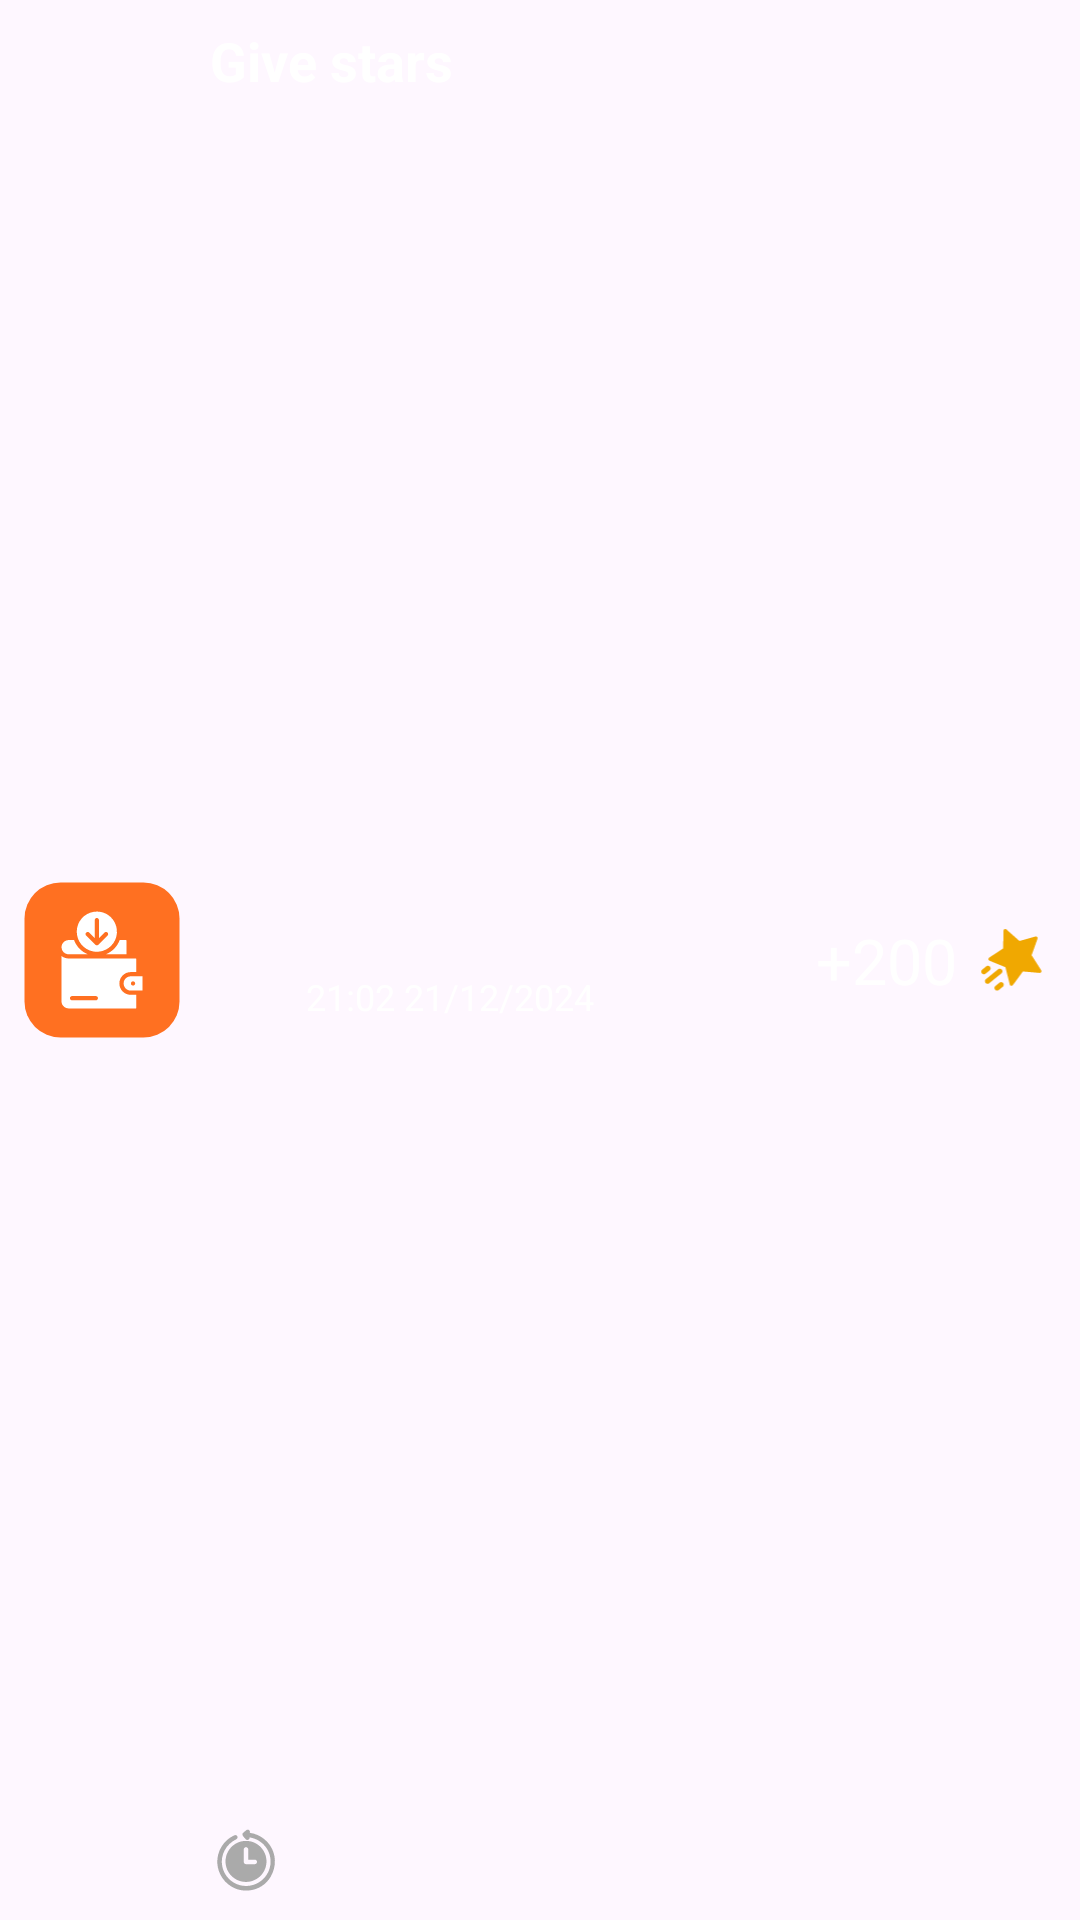

Icons on this 1080 x 1920 Android screen, each with the point to tap as (x=x, y=y):
time clock: (x=246, y=1860)
